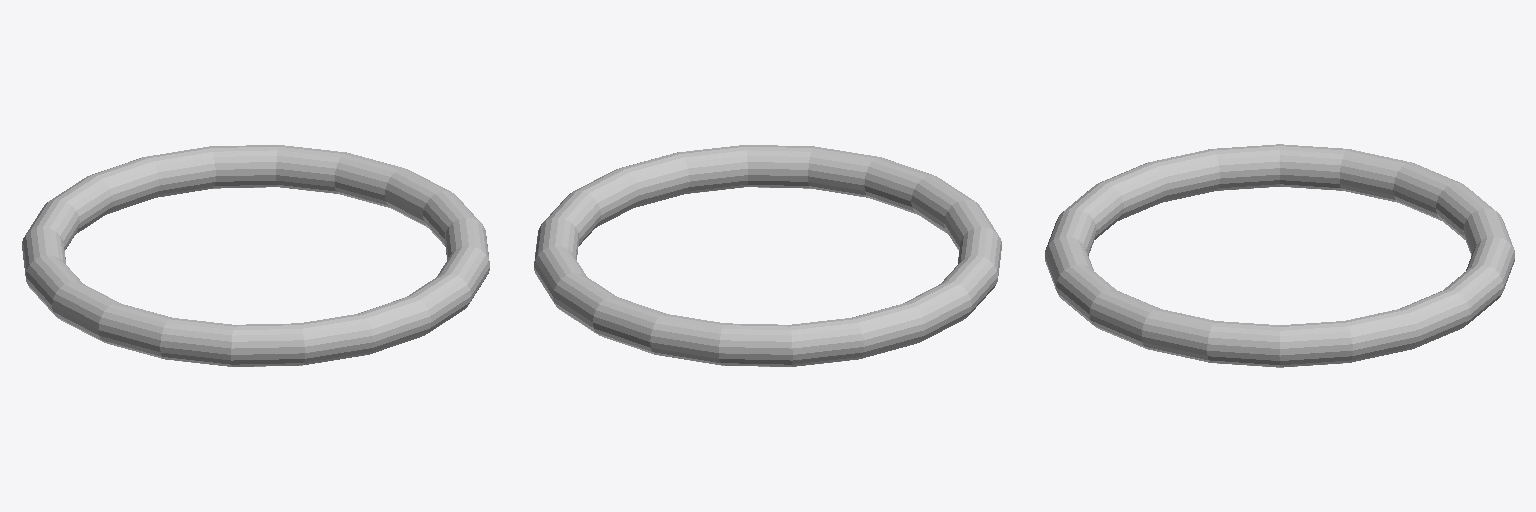
The model's file is rim.obj.
3 renders of one model, left to right at view 1: azimuth 30°, elevation 25°; view 2: azimuth 150°, elevation 25°; view 3: azimuth 270°, elevation 25°, orthographic.
Parts seen in each view (by area): view 1: pTorus1; view 2: pTorus1; view 3: pTorus1.
Boxes of the visible parts, <box> form: pTorus1: <box>22,145,489,366</box>; pTorus1: <box>534,145,1001,366</box>; pTorus1: <box>1045,144,1514,367</box>.
Size of the model in its own units: 2.2 by 0.2 by 2.2.